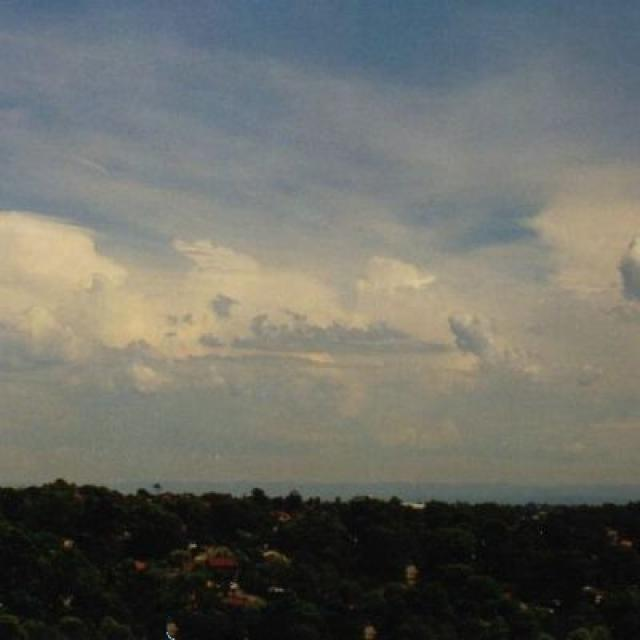Cs: (1, 114, 640, 469)
